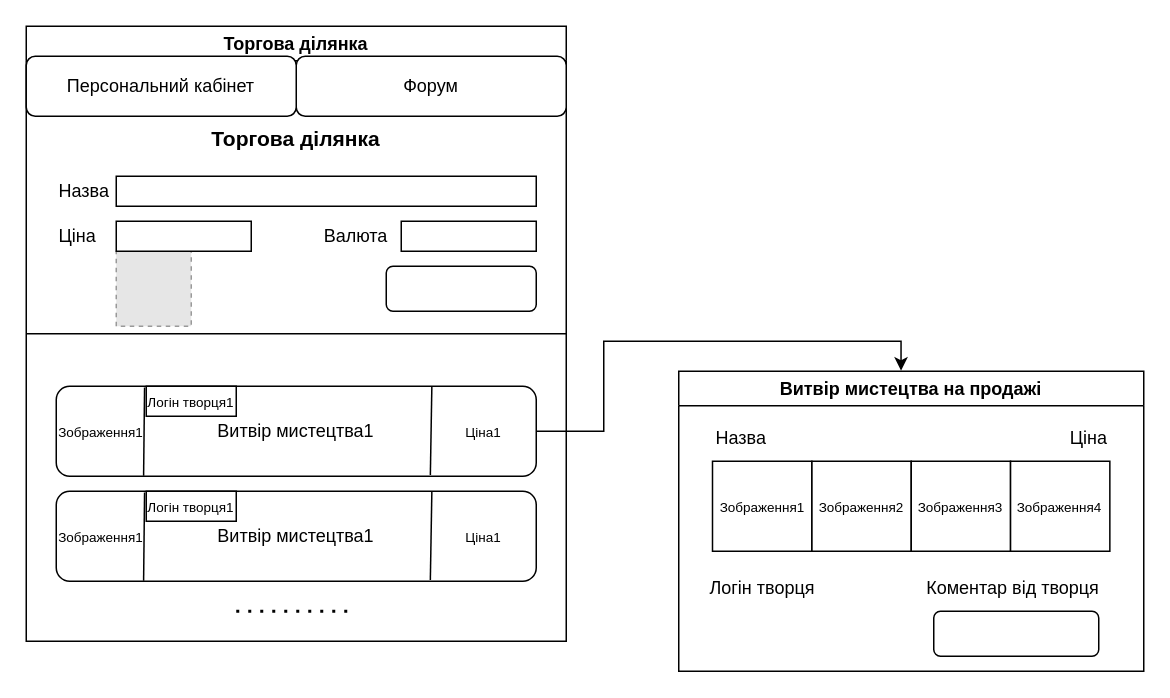
Some shapes in this 1170 by 698 pixel diagram are drawn without their labels. Grey dashed boxes stand in for pictures. The shapes that lost their labels are listed below. From the top down, each one's centre as x and y in pixels, then its label:
At (x=460, y=288): "Опублікувати".
At (x=1015, y=633): "Купити".
